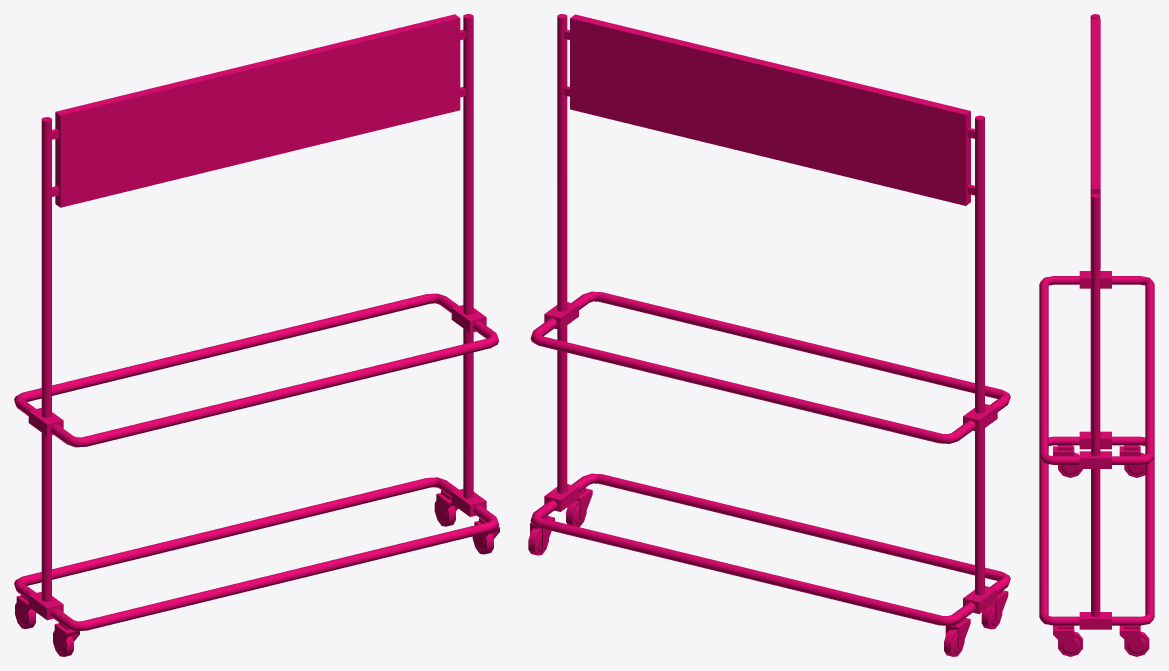
Rendered from Tire_Shelf_01_Lod0.fbx.
3 renders of one model, left to right at view 1: azimuth 30°, elevation 25°; view 2: azimuth 150°, elevation 25°; view 3: azimuth 270°, elevation 25°, orthographic. The views are drawn at different scales.
Parts seen in each view (by area): view 1: Tire_Shelf_01_Lod0; view 2: Tire_Shelf_01_Lod0; view 3: Tire_Shelf_01_Lod0.
Part boxes in pixels (x1,y1,x2,y2): Tire_Shelf_01_Lod0: (14,14,499,656); Tire_Shelf_01_Lod0: (528,14,1010,656); Tire_Shelf_01_Lod0: (1039,14,1154,656).
Size of the model in its own units: 215 by 247 by 56.
